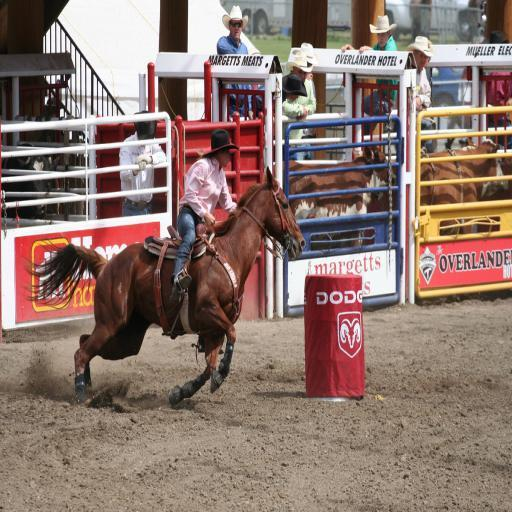horse: (18, 160, 306, 406)
